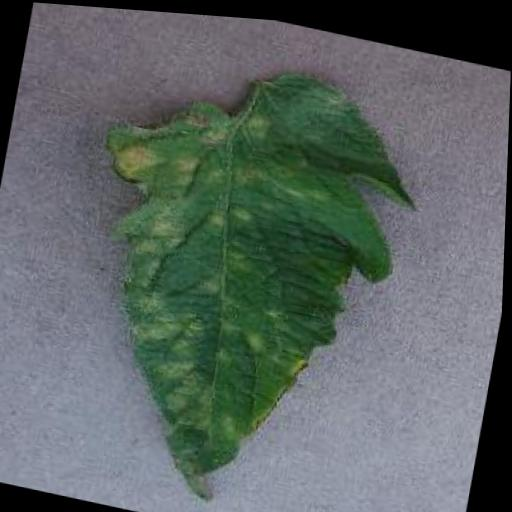Leaf Mold: (49, 32, 437, 512)
